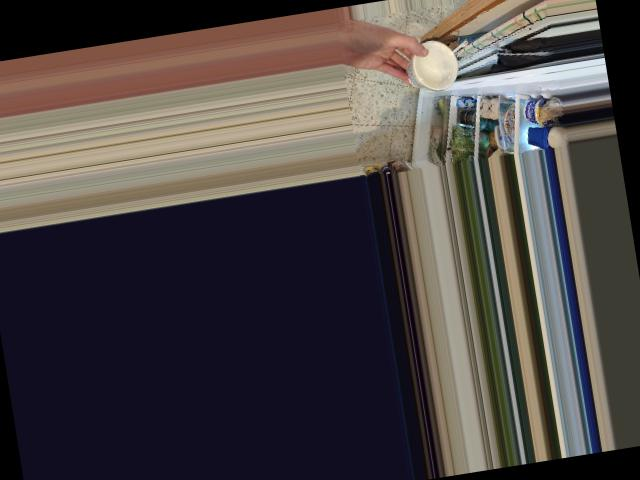cotage: (405, 42, 459, 92)
